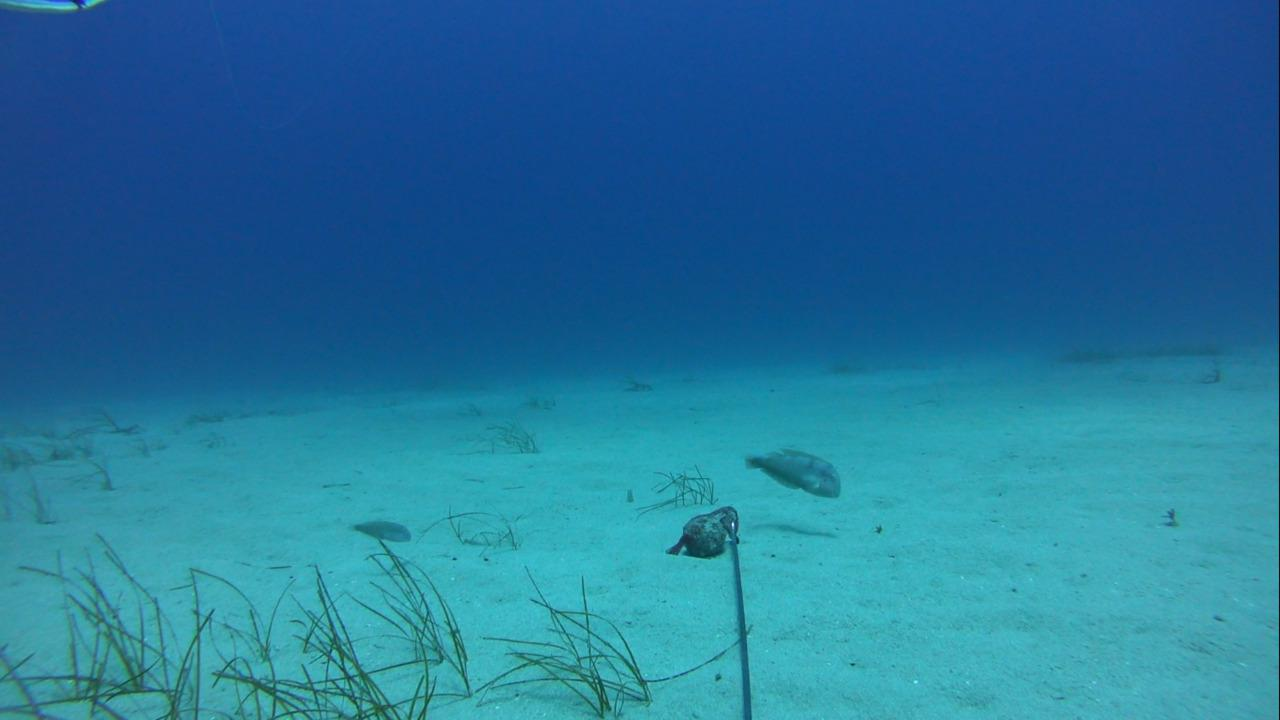raor: (738, 441, 849, 503), (333, 512, 421, 546)
